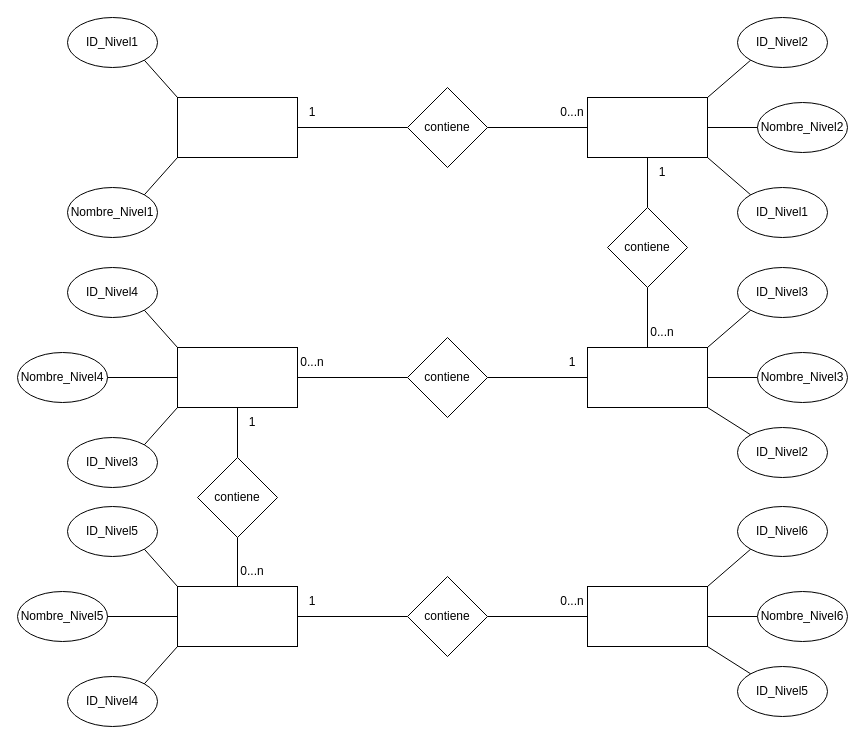
The diagram is 865 pixels wide and 744 high, and some of its shapes have lost their labels. Each missing label, with the centre of its shape:
Nivel1: point (237, 127)
Nivel2: point (647, 127)
Nivel3: point (647, 377)
Nivel4: point (237, 377)
Nivel5: point (237, 616)
Nivel6: point (647, 616)
